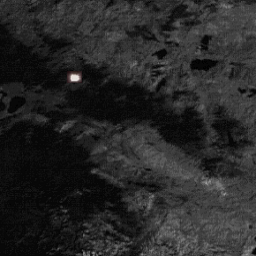Target: (68, 72, 81, 83)
